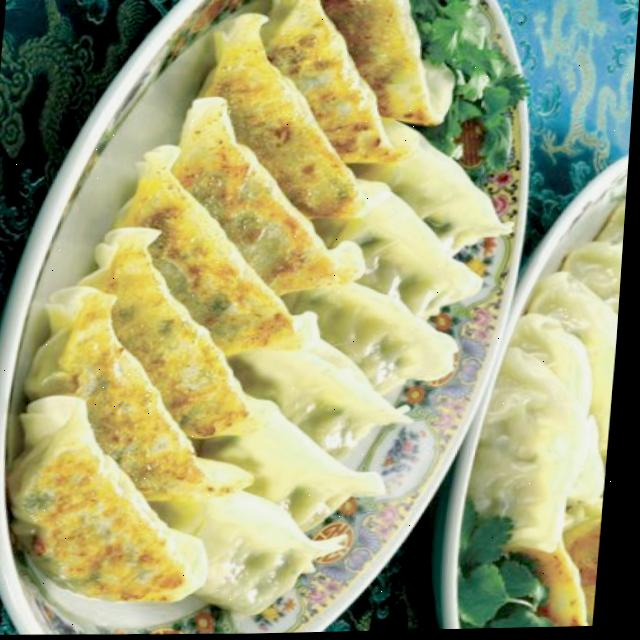带馅早点: (0, 0, 547, 639)
